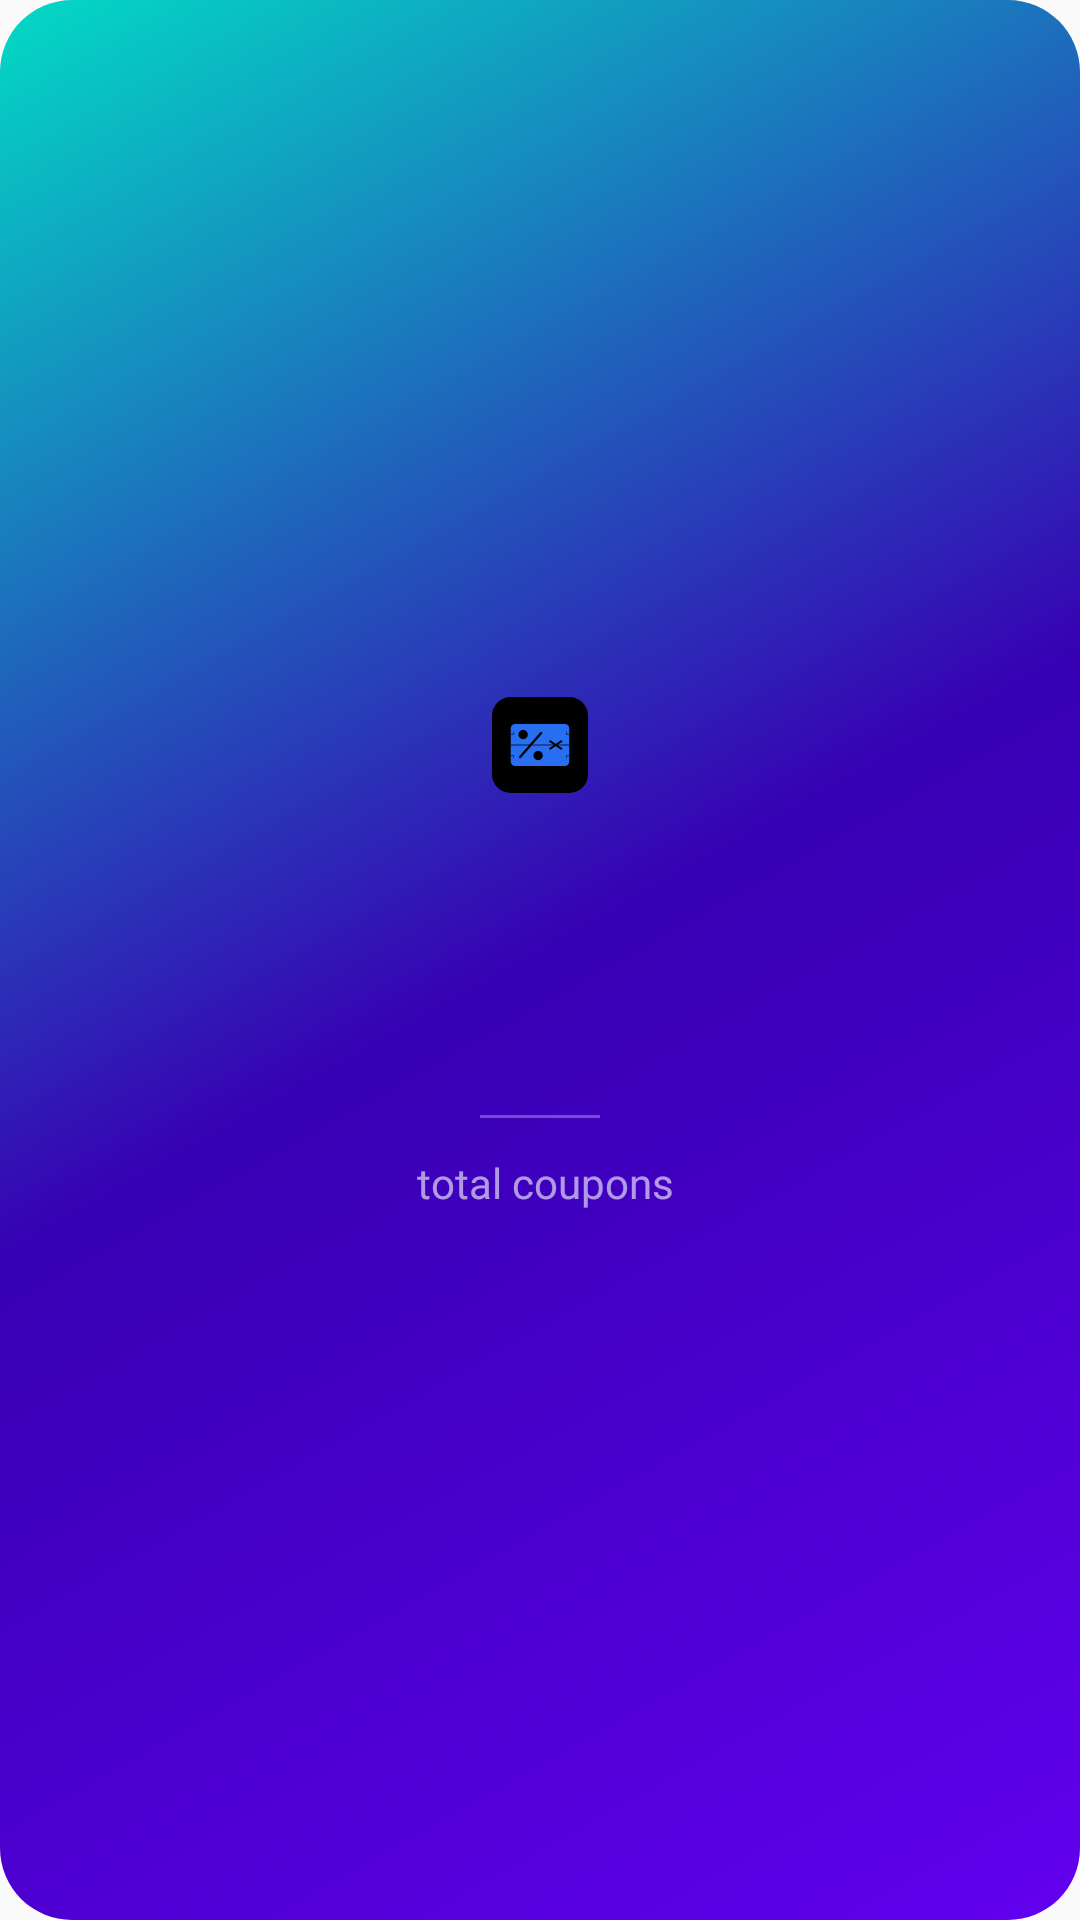

Icons on this 1080 × 1920 Android screen, each with the point to tap as point (x, y):
app: point (540, 745)
